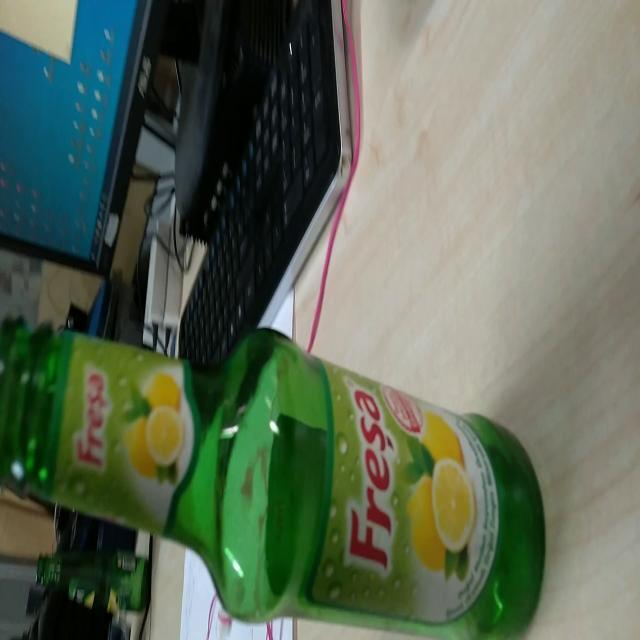Glass: (2, 315, 548, 640)
